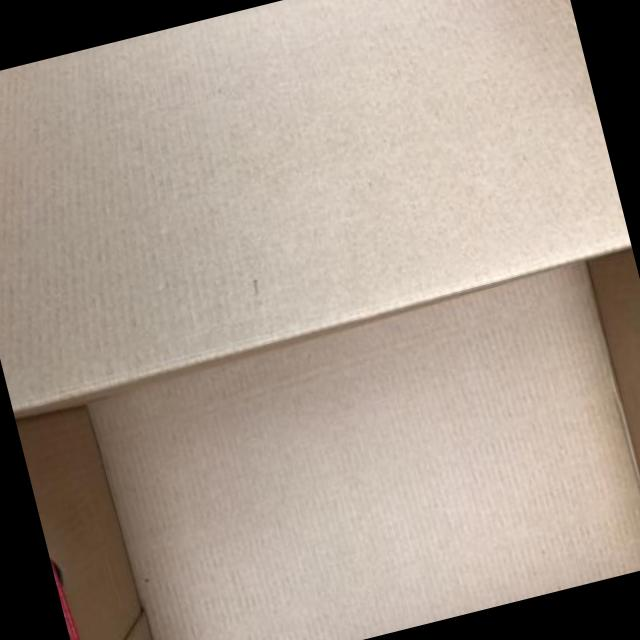cardboard: (0, 0, 639, 639), (0, 0, 630, 413), (90, 265, 639, 639), (17, 409, 139, 639), (588, 250, 639, 471), (124, 616, 150, 639)
